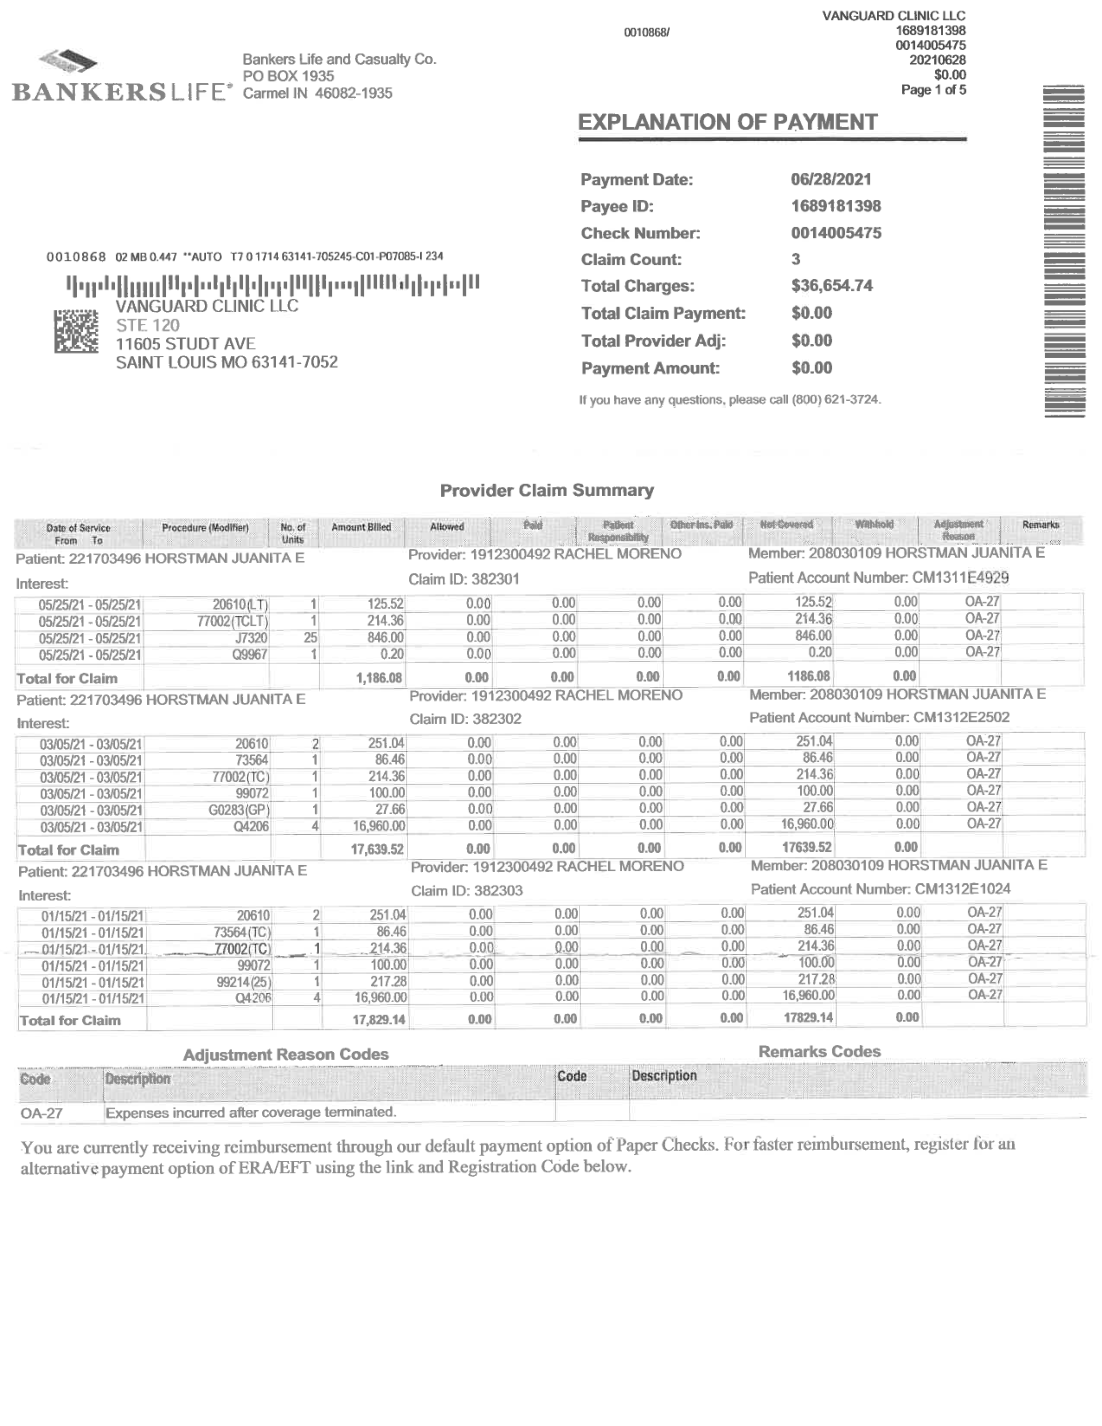data: (566, 150, 905, 378), (745, 684, 1068, 730), (8, 684, 322, 732), (8, 547, 319, 593), (742, 541, 1059, 585), (745, 857, 1066, 899), (403, 542, 695, 588), (401, 685, 691, 728), (403, 861, 703, 902), (12, 862, 326, 901)
table: (3, 505, 1094, 1038)
